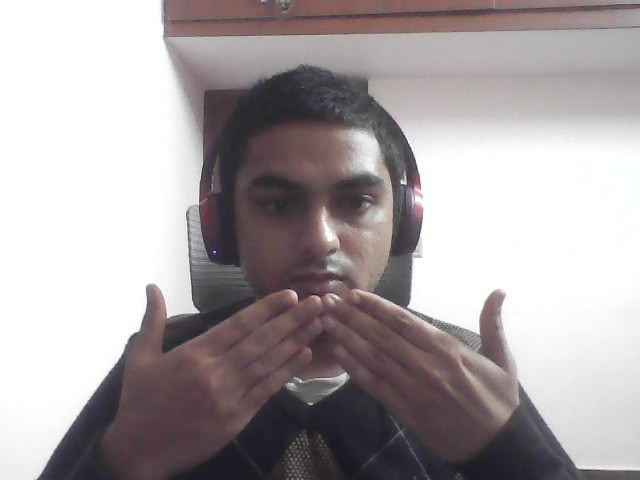Thank You: (94, 246, 538, 457)
